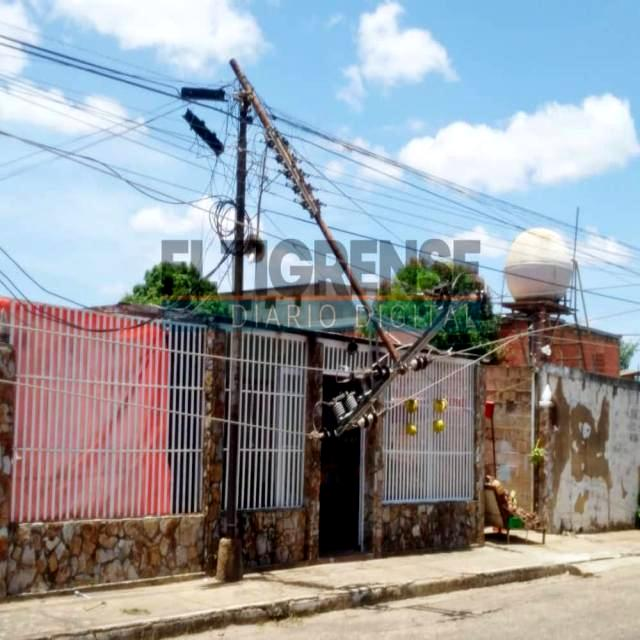Broken Pole: (213, 57, 487, 583)
